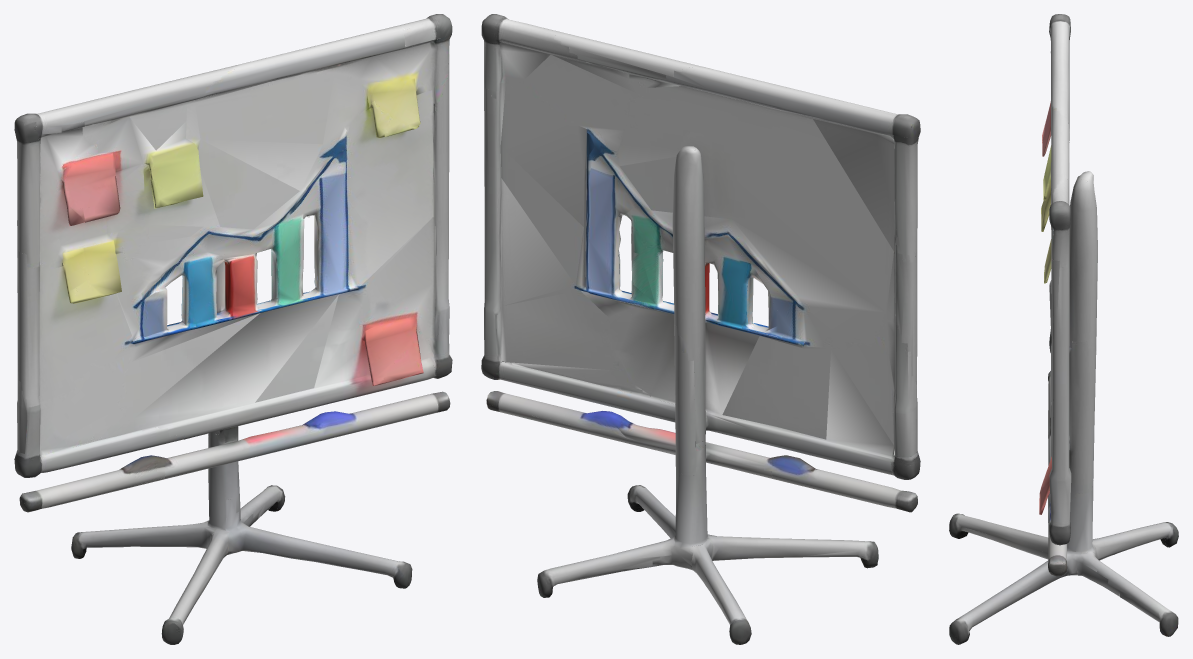
The model's file is whiteboard.glb.
3 renders of one model, left to right at view 1: azimuth 30°, elevation 25°; view 2: azimuth 150°, elevation 25°; view 3: azimuth 270°, elevation 25°, orthographic. The views are drawn at different scales.
Visible parts, largest first — view 1: model.001; view 2: model.001; view 3: model.001.
Boxes of the visible parts, x1,y1,x2,y2 form: model.001: (14,14,452,644); model.001: (481,14,920,644); model.001: (949,14,1178,644).
Bounding box in the file's own units: 1.5 × 1.7 × 0.7378.
1 material, 1 textured.
